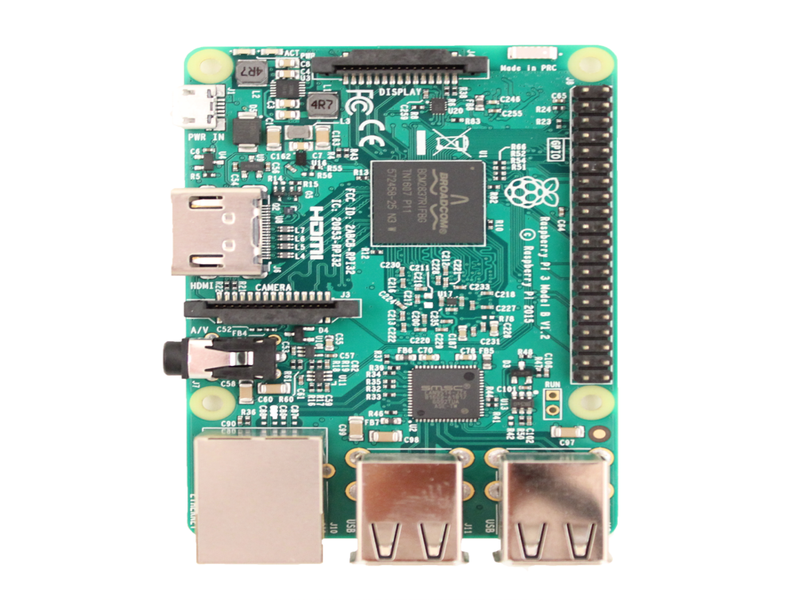Raspberry_Pi_3: (147, 40, 629, 572)
